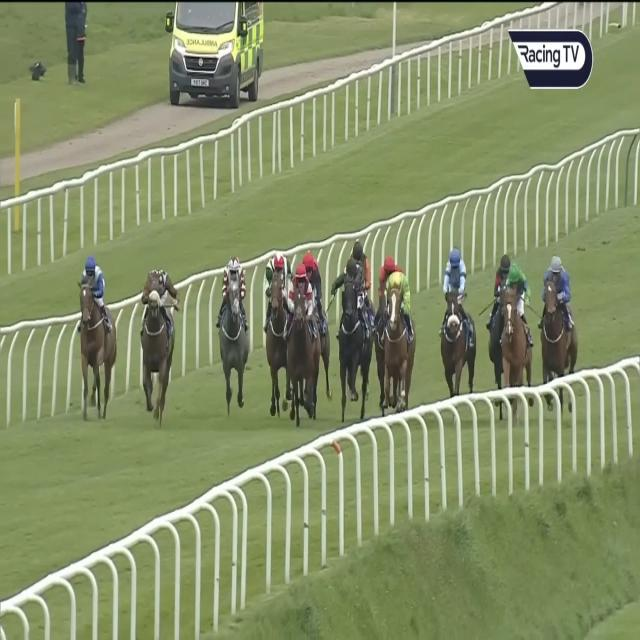horses-racing: (380, 268, 424, 413), (78, 255, 115, 417), (139, 260, 174, 416), (215, 256, 249, 407), (439, 247, 470, 395), (288, 267, 316, 426), (337, 255, 364, 419), (500, 259, 532, 395), (539, 255, 573, 375), (263, 246, 286, 399), (303, 250, 332, 339), (487, 251, 508, 331), (373, 252, 397, 302), (353, 237, 371, 293)
